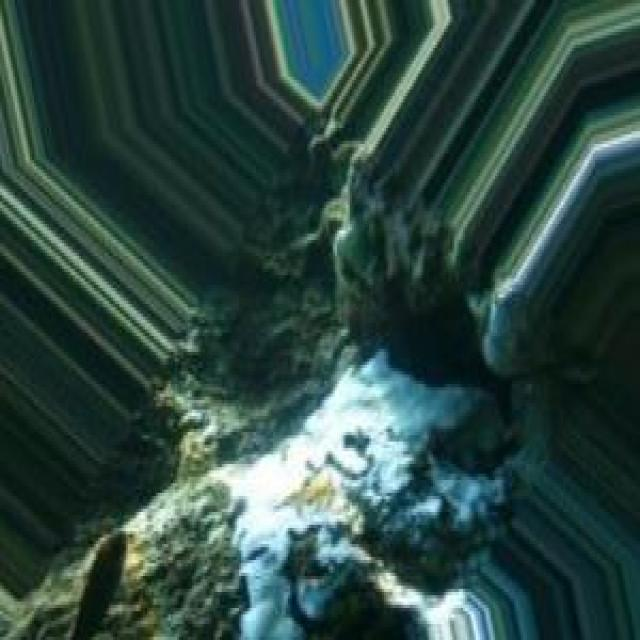Bleached: (212, 353, 492, 638)
